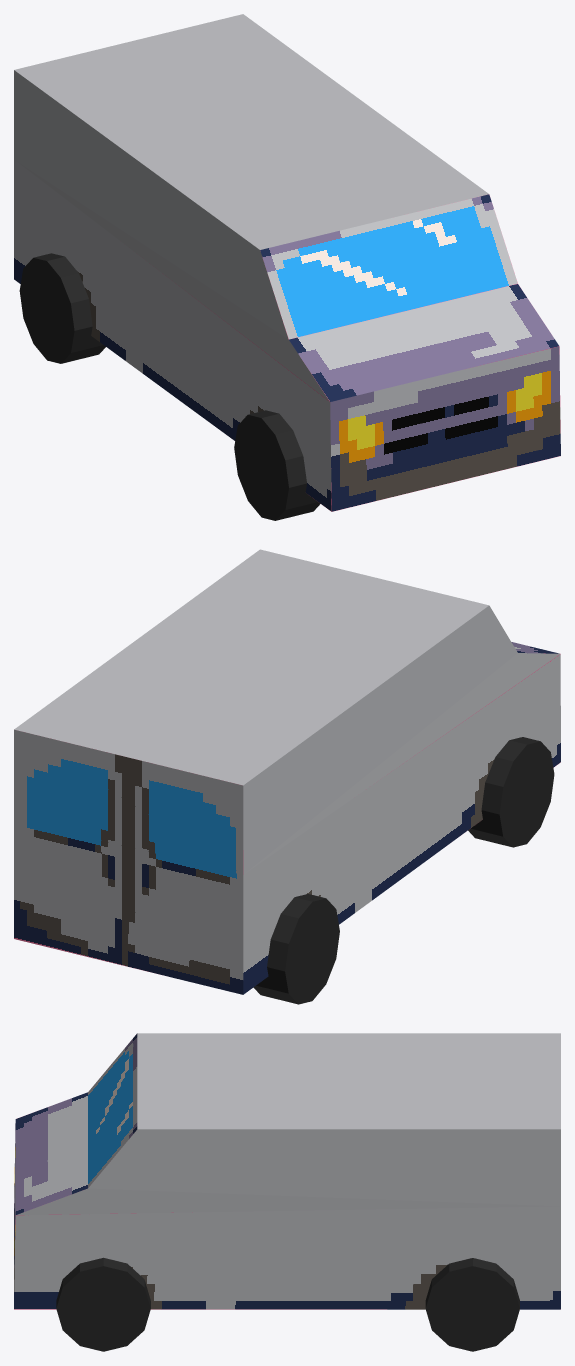
File: BetterTruck.glb
3 views of the same model, one above another, from view 1: azimuth 30°, elevation 25°; view 2: azimuth 150°, elevation 25°; view 3: azimuth 270°, elevation 25° (orthographic). The views are drawn at different scales.
Parts seen in each view (by area): view 1: Cube, Cylinder.002, Cylinder.001; view 2: Cube, Cylinder.001, Cylinder.002; view 3: Cube, Cylinder, Cylinder.003.
Part boxes in pixels (bbox=[...]): Cube: bbox=[14, 14, 560, 511]; Cylinder.002: bbox=[19, 253, 105, 363]; Cylinder.001: bbox=[234, 410, 320, 520]; Cube: bbox=[14, 549, 560, 994]; Cylinder.001: bbox=[468, 737, 554, 847]; Cylinder.002: bbox=[253, 894, 339, 1004]; Cube: bbox=[14, 1033, 560, 1309]; Cylinder: bbox=[56, 1257, 150, 1351]; Cylinder.003: bbox=[425, 1258, 519, 1351].
Bounding box in the file's own units: 2.32 × 2.06 × 4.78.
Materials: 2 (1 with a texture image).
